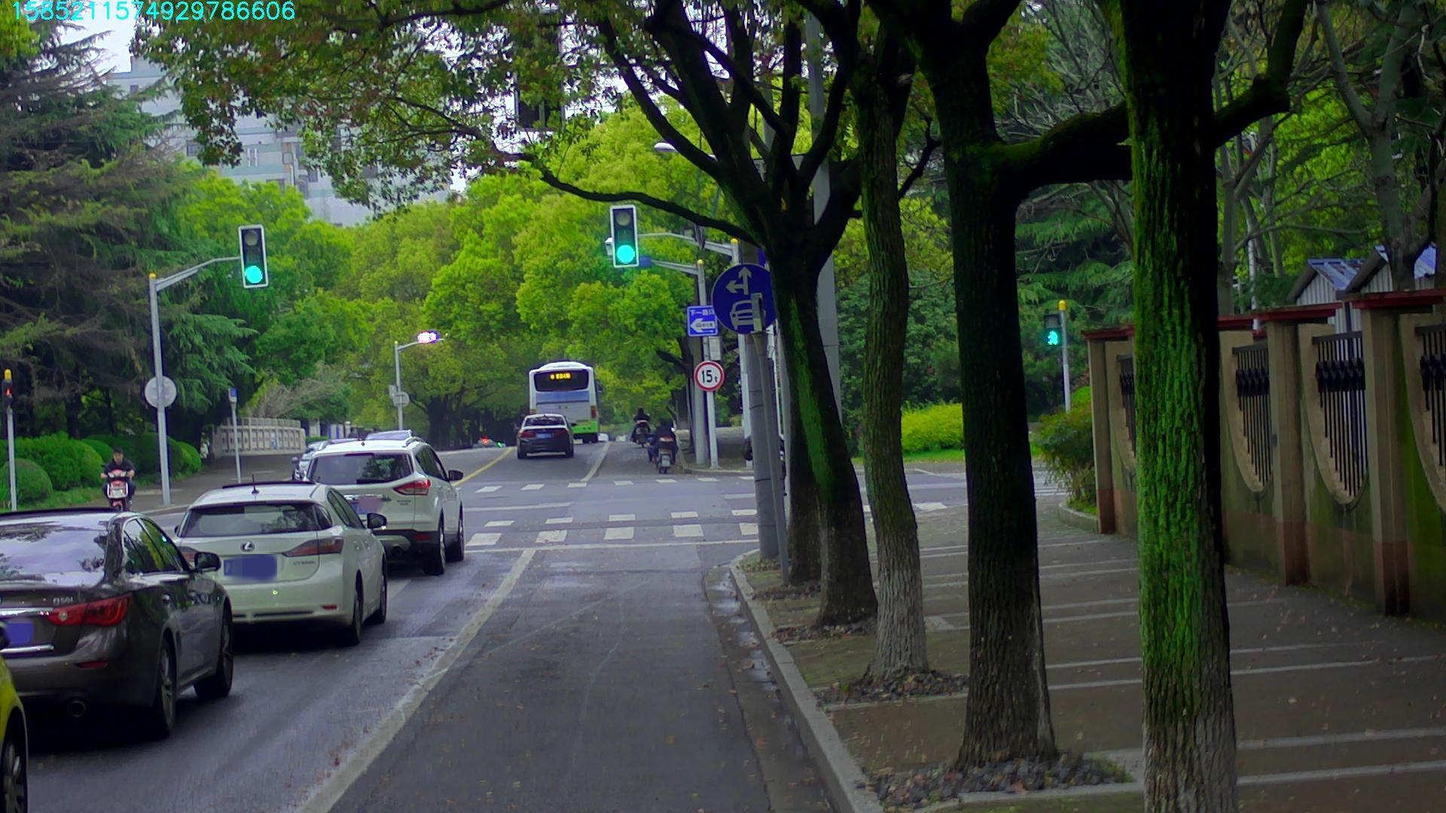green: (239, 227, 267, 285), (610, 206, 637, 265)
